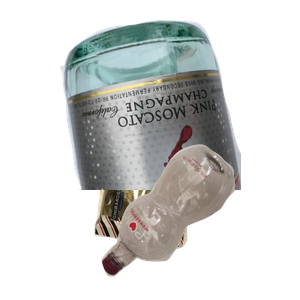glass: (60, 17, 300, 197)
paper: (56, 40, 229, 166)
plastic: (99, 142, 300, 300)
trash: (92, 158, 277, 300)
